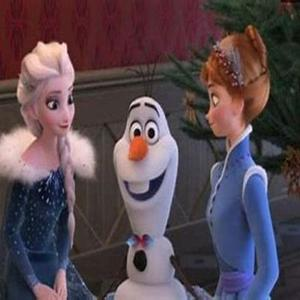olaf: (116, 41, 183, 290)
